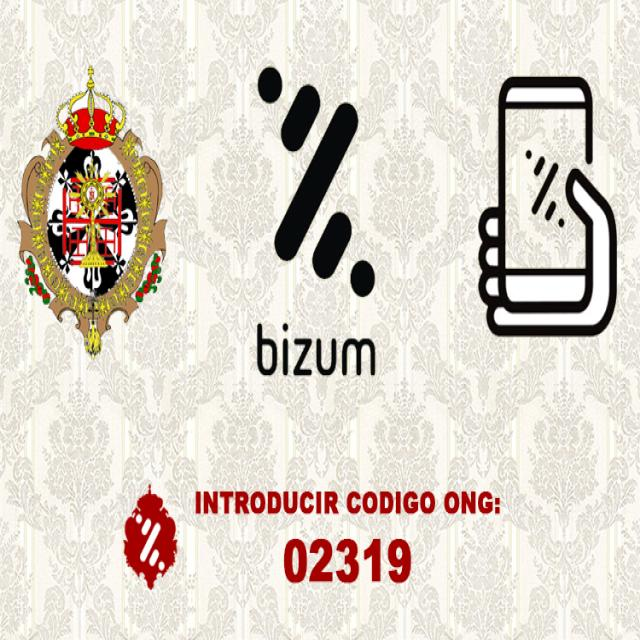bizum: (256, 66, 377, 298), (525, 150, 564, 228)
bizum_txt: (256, 322, 376, 376)
